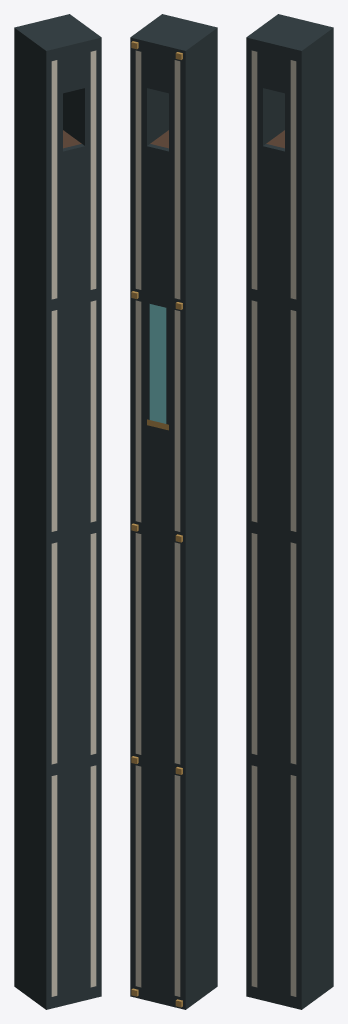
3 renders of one model, left to right at view 1: azimuth 30°, elevation 25°; view 2: azimuth 150°, elevation 25°; view 3: azimuth 330°, elevation 25°, orthographic.
Parts seen in each view (by area): view 1: 既有悬桥塔柱显示件; view 2: 既有悬桥塔柱显示件; view 3: 既有悬桥塔柱显示件.
Boxes of the visible parts, bbox=[...] form: 既有悬桥塔柱显示件: bbox=[14, 14, 101, 1009]; 既有悬桥塔柱显示件: bbox=[130, 14, 217, 1009]; 既有悬桥塔柱显示件: bbox=[246, 14, 333, 1009].
Bounding box in the file's own units: 2 × 33 × 2.1.
5 materials, 5 textured.
